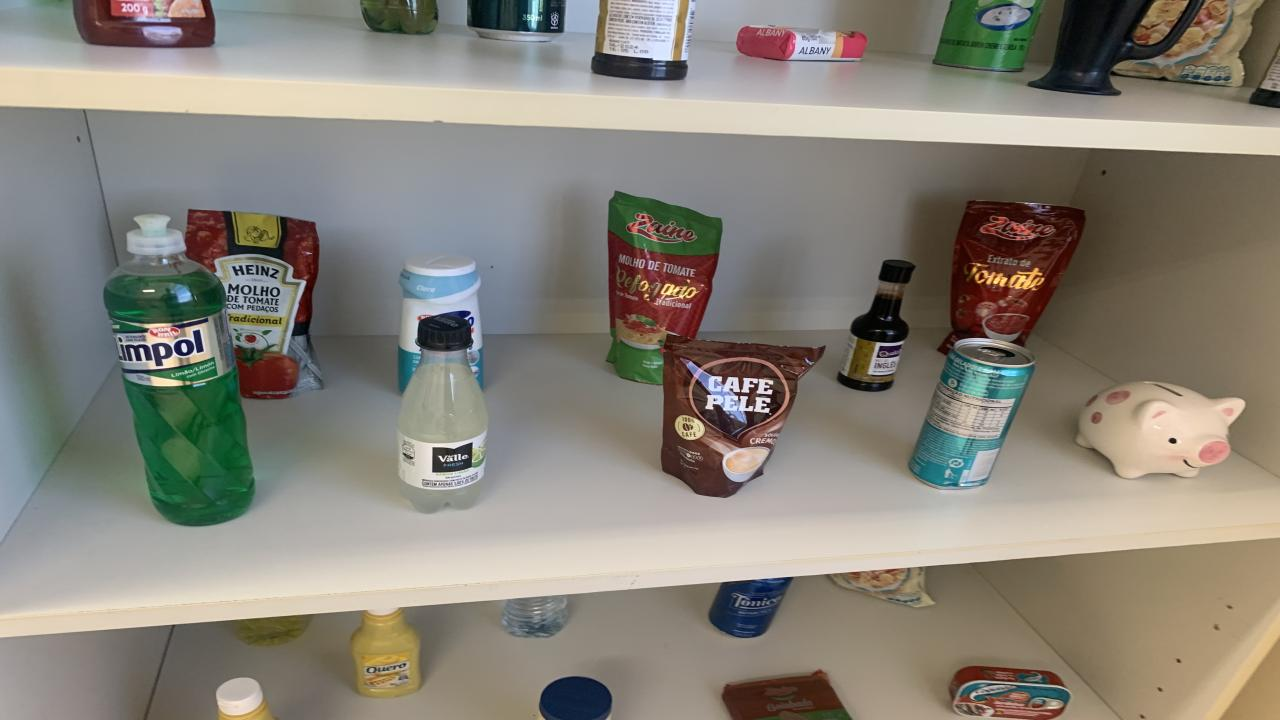Cleaner-Cleanup_Items: (398, 253, 482, 390)
Coffee-Pantry_Items: (660, 334, 825, 497)
Detergent-Cleanup_Items: (105, 214, 255, 525), (235, 615, 310, 647)
English_Sauce-Pantry_Items: (838, 261, 915, 392), (590, 0, 695, 81)
Flakes-Snacks: (1112, 0, 1262, 86), (830, 568, 935, 608), (1132, 0, 1188, 45)
Guarana-Drinks: (360, 0, 438, 34)
Guarana_Can-Drinks: (468, 0, 565, 41)
Guava-Snacks: (722, 669, 850, 720)
Ketchup-Pantry_Items: (72, 0, 215, 47)
Mayonnaise-Pantry_Items: (540, 677, 612, 720)
Mustard-Pantry_Items: (350, 609, 420, 698), (215, 677, 275, 720)
Pig_Safe-Miscellaneous: (1075, 382, 1245, 478)
Pringles-Snacks: (932, 0, 1045, 71)
Soap-Cleanup_Items: (738, 26, 868, 62)
Soda-Drinks: (398, 315, 488, 514)
Tea-Drinks: (910, 338, 1035, 489)
Tomato_Sauce-Pantry_Items: (185, 210, 322, 399), (938, 201, 1085, 354), (608, 191, 722, 384)
Tonic-Drinks: (710, 578, 792, 638)
Tuna_Can-Pantry_Items: (950, 666, 1070, 720)
Water_Bottle-Drinks: (502, 594, 568, 638)
